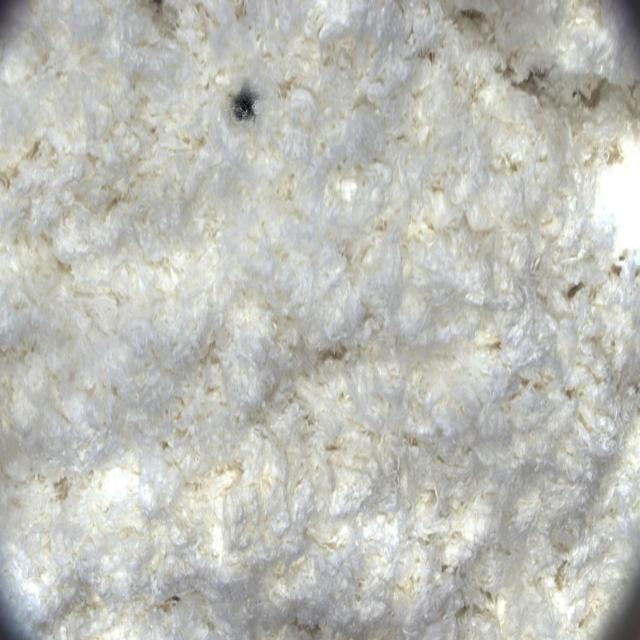dust: (221, 66, 273, 147)
